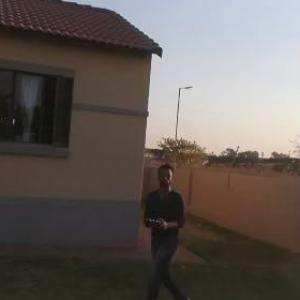follow: (130, 154, 192, 299)
